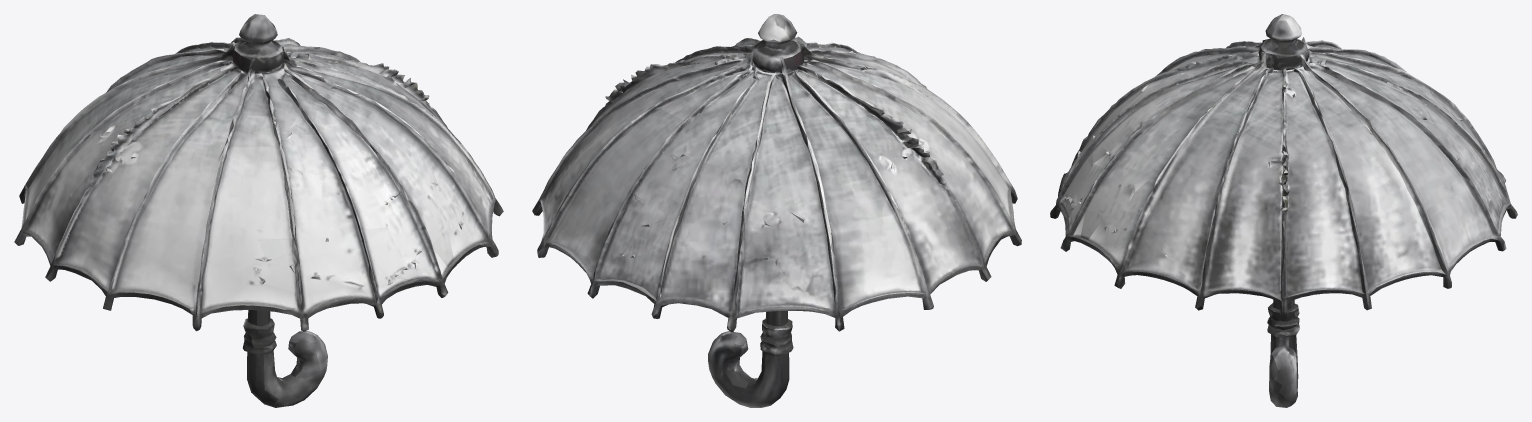
File: umbrella-silver.glb
The picture shows the model from 3 angles, left to right: view 1: azimuth 30°, elevation 25°; view 2: azimuth 150°, elevation 25°; view 3: azimuth 270°, elevation 25°; orthographic projection. The views are drawn at different scales.
Visible parts, largest first — view 1: geometry_0; view 2: geometry_0; view 3: geometry_0.
Boxes of the visible parts, box(x1,y1,x2,y2) form: geometry_0: box(14, 14, 503, 407); geometry_0: box(532, 14, 1021, 407); geometry_0: box(1050, 14, 1517, 407).
Bounding box in the file's own units: 0.9 × 0.8015 × 0.9013.
Materials: 1 (1 with a texture image).
